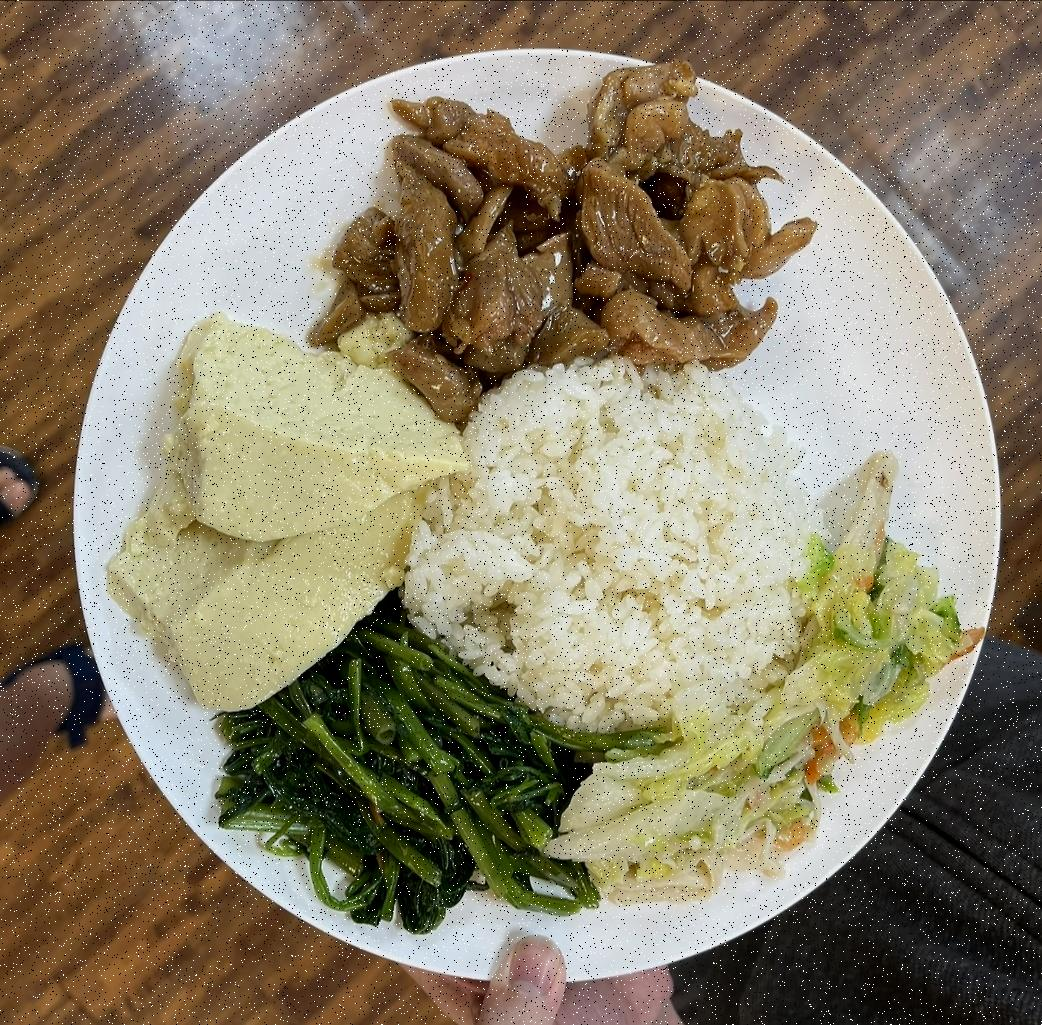plate: (61, 40, 1026, 990)
side dish: (556, 526, 984, 910), (109, 328, 426, 692), (218, 616, 570, 940)
three cup chicken: (330, 64, 810, 410)
white rice: (404, 361, 820, 738)
